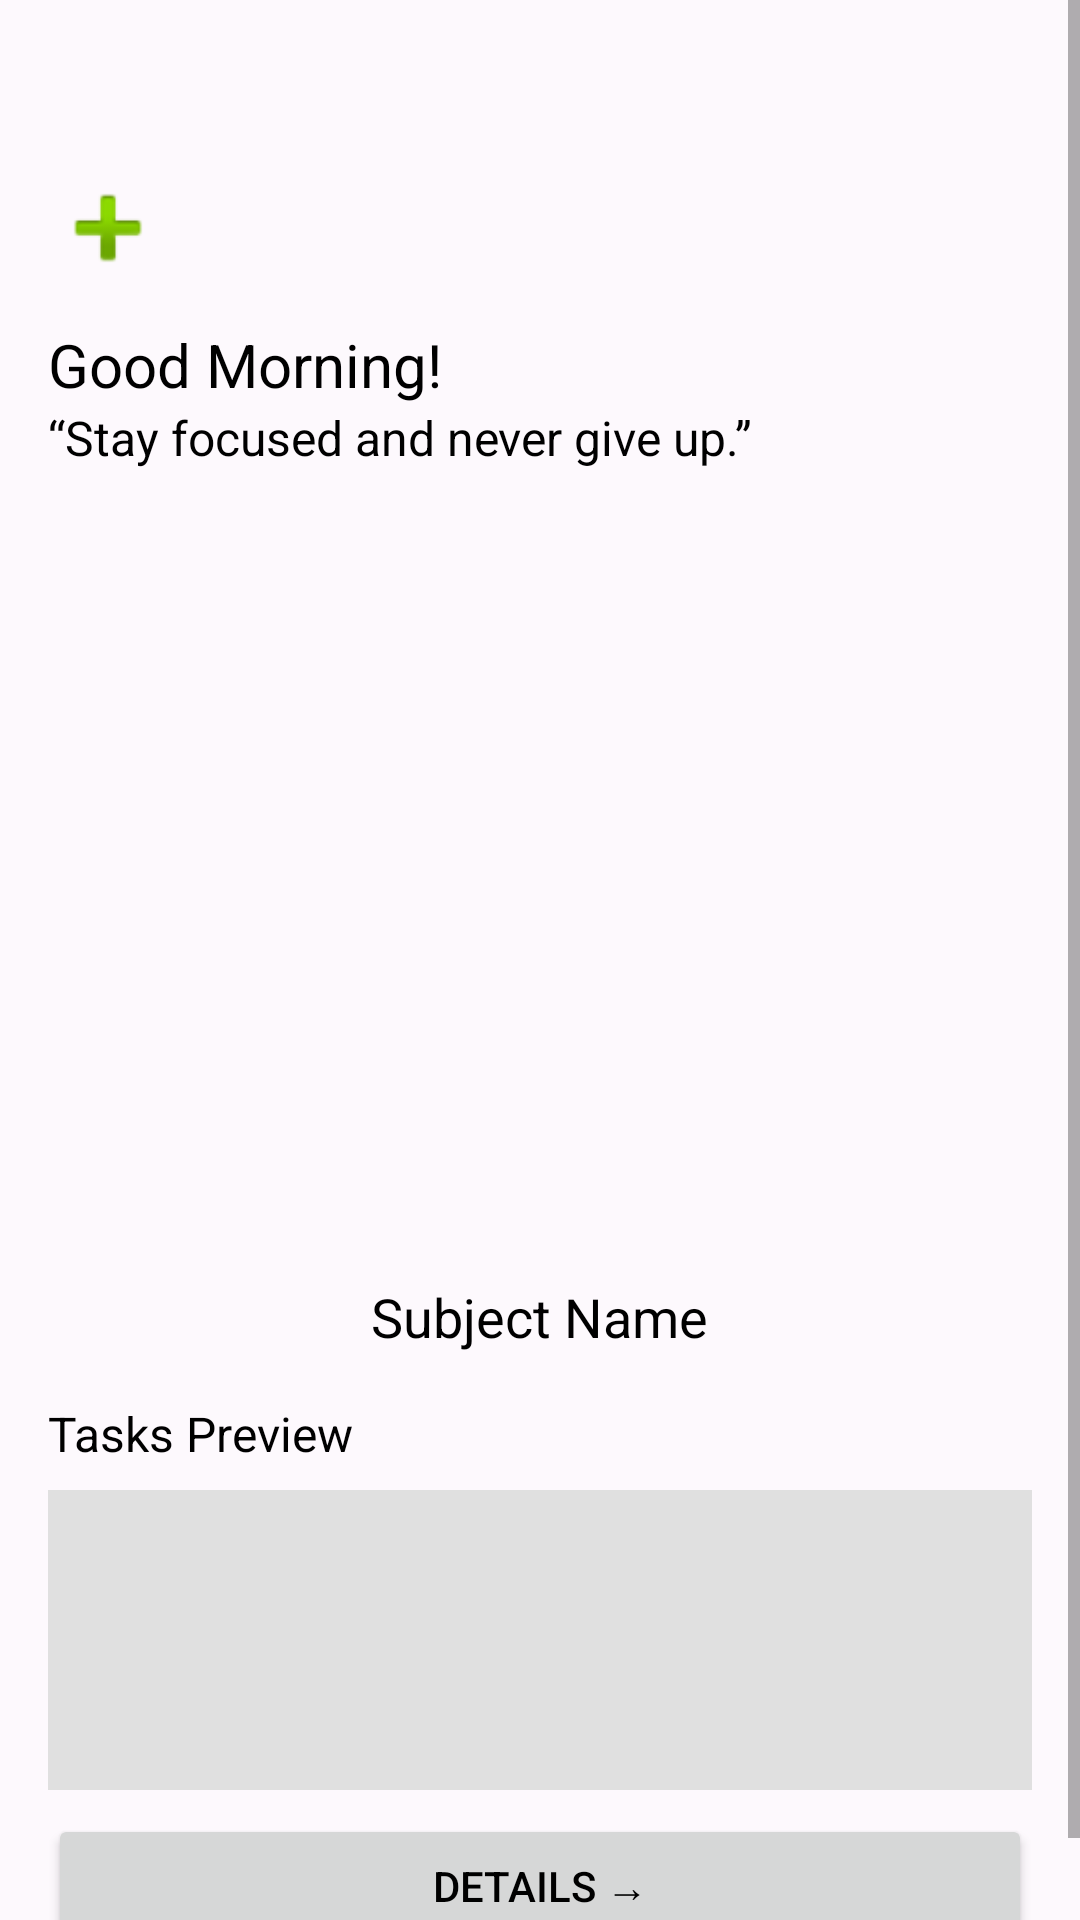

Icon click points for this 1080px×1920px phone screenshot, format [x,y]:
add: [108,228]
